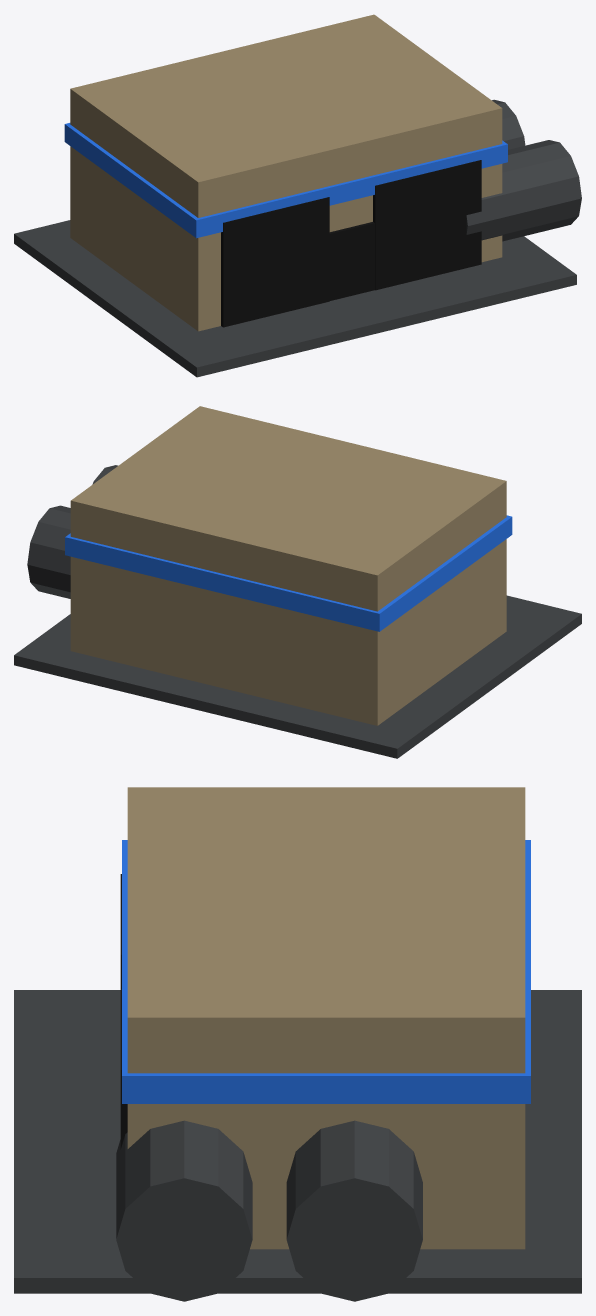
The model's file is ae_logistics_hub.glb.
The picture shows the model from 3 angles, top to bottom: view 1: azimuth 30°, elevation 25°; view 2: azimuth 150°, elevation 25°; view 3: azimuth 270°, elevation 25°; orthographic projection. The views are drawn at different scales.
Visible parts, largest first — view 1: main, base, garage_0, garage_1, fuel_tank_0, team_band, door, fuel_tank_1; view 2: main, base, team_band, fuel_tank_1; view 3: main, base, fuel_tank_0, fuel_tank_1, team_band.
Part boxes in pixels (bbox=[...]): main: bbox=[70, 14, 502, 331]; base: bbox=[14, 220, 576, 377]; garage_0: bbox=[221, 197, 329, 327]; garage_1: bbox=[373, 160, 481, 290]; fuel_tank_0: bbox=[466, 140, 581, 241]; team_band: bbox=[64, 123, 507, 238]; door: bbox=[329, 222, 374, 300]; fuel_tank_1: bbox=[492, 99, 525, 149]; main: bbox=[70, 406, 506, 725]; base: bbox=[14, 595, 581, 758]; team_band: bbox=[65, 515, 512, 631]; fuel_tank_1: bbox=[27, 505, 70, 598]; main: bbox=[127, 787, 525, 1249]; base: bbox=[14, 990, 581, 1293]; fuel_tank_0: bbox=[116, 1120, 252, 1301]; fuel_tank_1: bbox=[286, 1120, 422, 1301]; team_band: bbox=[122, 840, 530, 1103].
Bounding box in the file's own units: 13.2 × 4.8 × 10.
